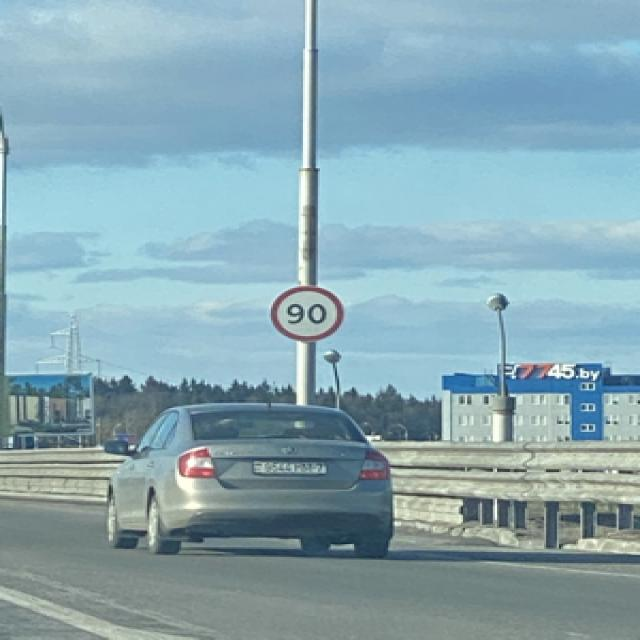speedlimit: (267, 285, 341, 341)
